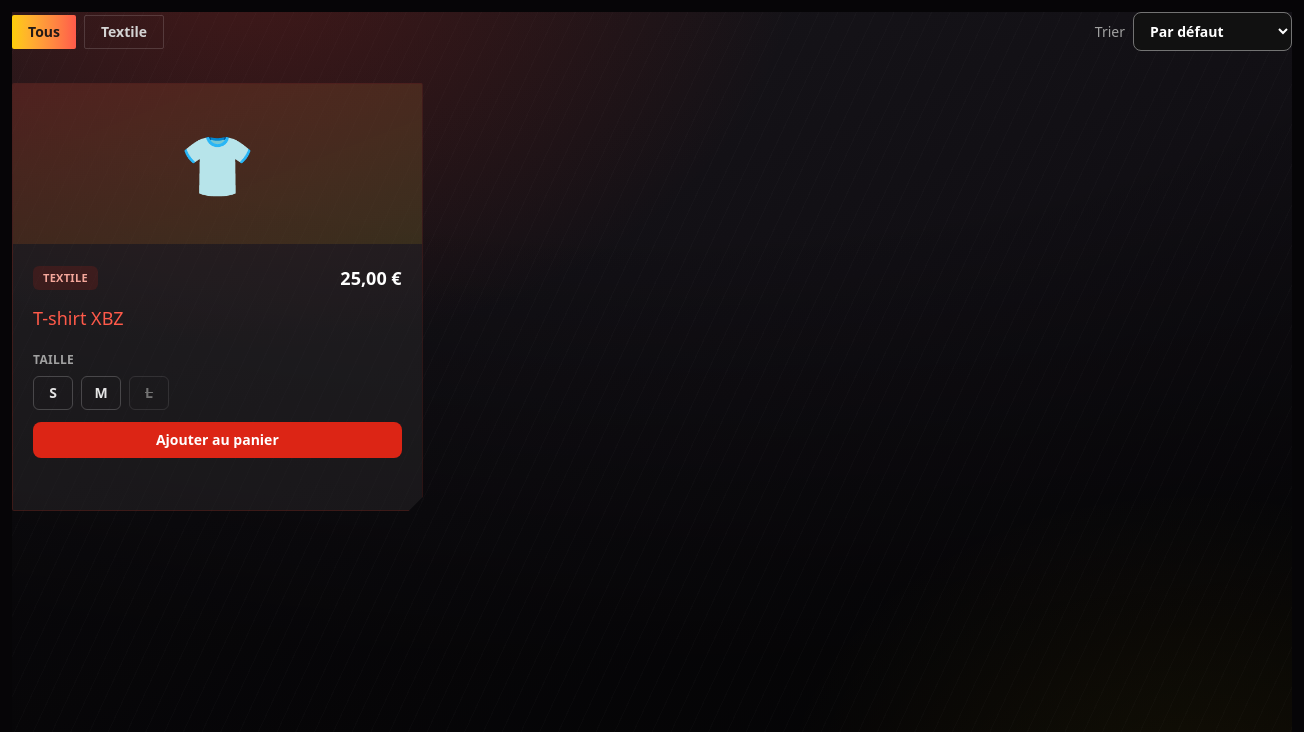
Test: BoutiqueList › achat : tailles et panier › prévient quand il reste peu de pièces
The image size is (1304, 732).
Click the radio button labelled "M".
click(101, 393)  # box [81, 376, 121, 410]
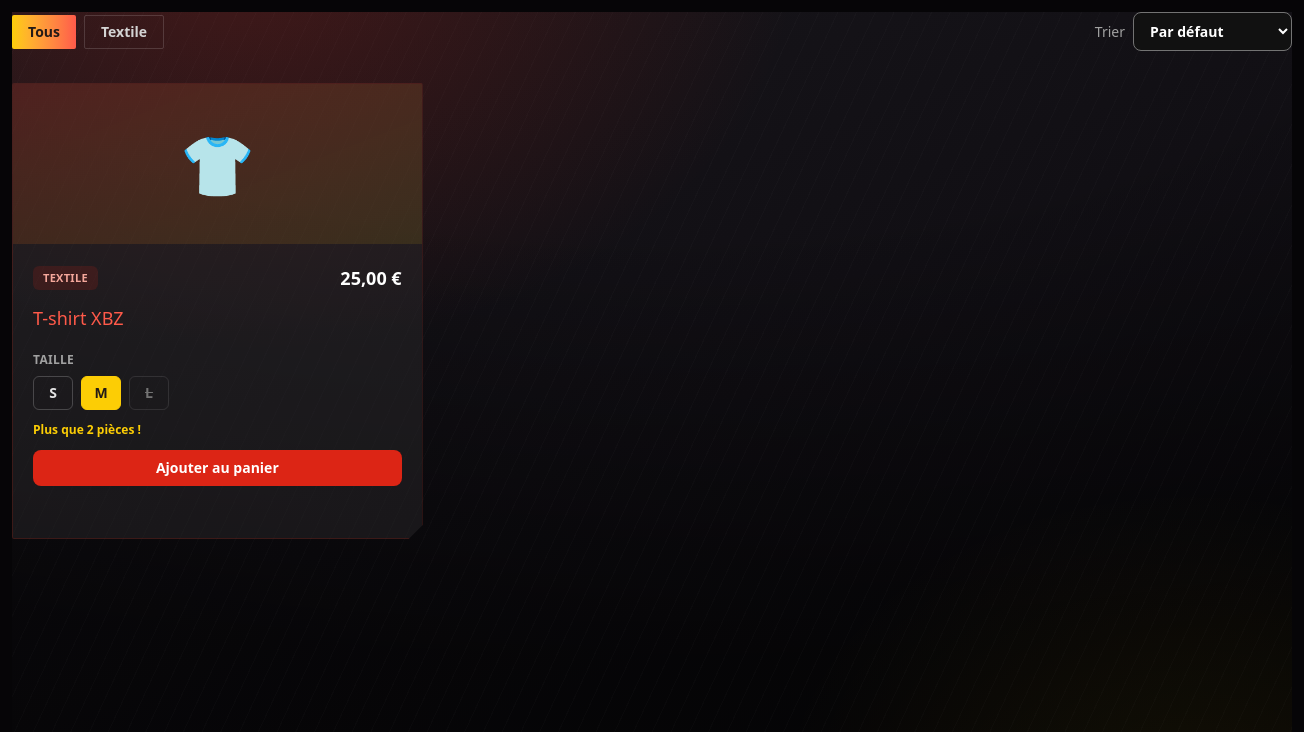
Now the text "Plus que 2 pièces !" is shown, box [33, 421, 141, 438]
